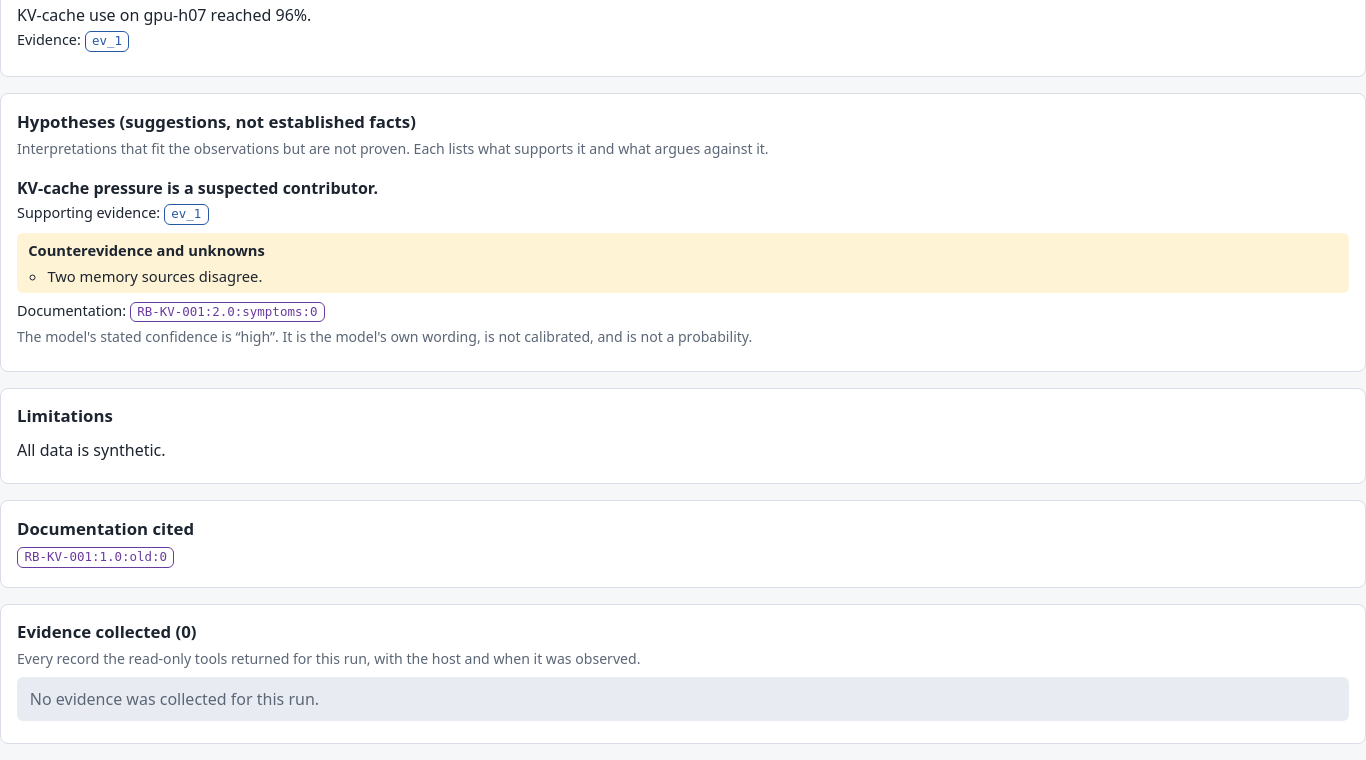
Scenario: RunPage: completed investigation › warns when a citation points at a superseded document version
This screenshot has width=1366, height=760.
(page scrolled)
What coordinates should you click on to do the following:
click the button with aria-label "Documentation passage RB-KV-001:1.0:old:0"
I would click on:
 (96, 557)
Its box is [17,547,174,568].
(page scrolled)
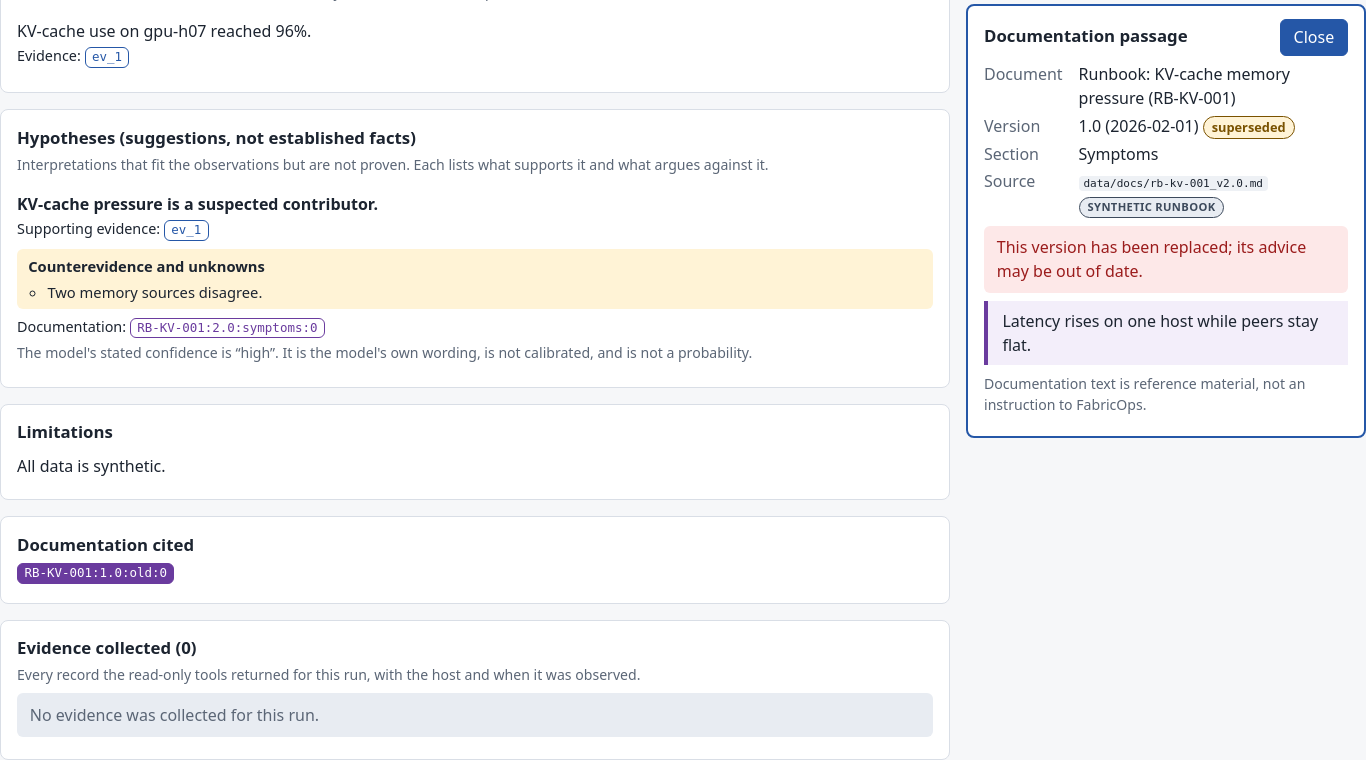
Now the text "superseded" is shown, box [1203,116,1295,139]
